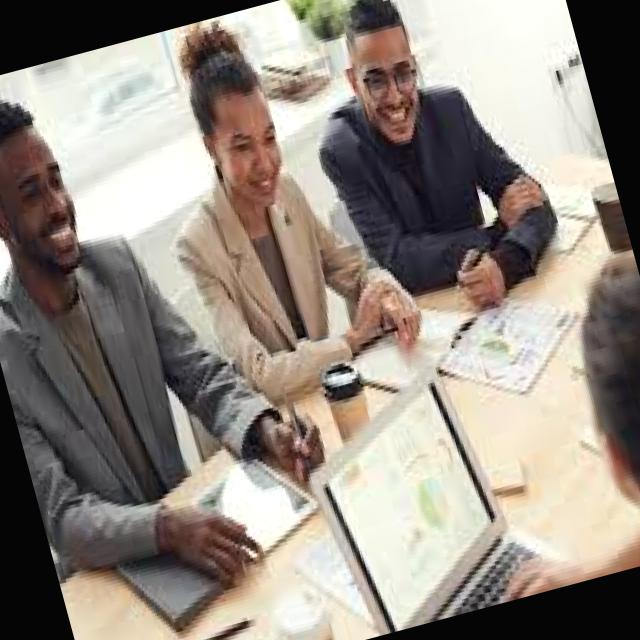Hand: (154, 484, 272, 598), (258, 398, 336, 488), (496, 538, 600, 602), (358, 276, 429, 358), (446, 238, 512, 316), (330, 278, 401, 348), (486, 163, 558, 231)
